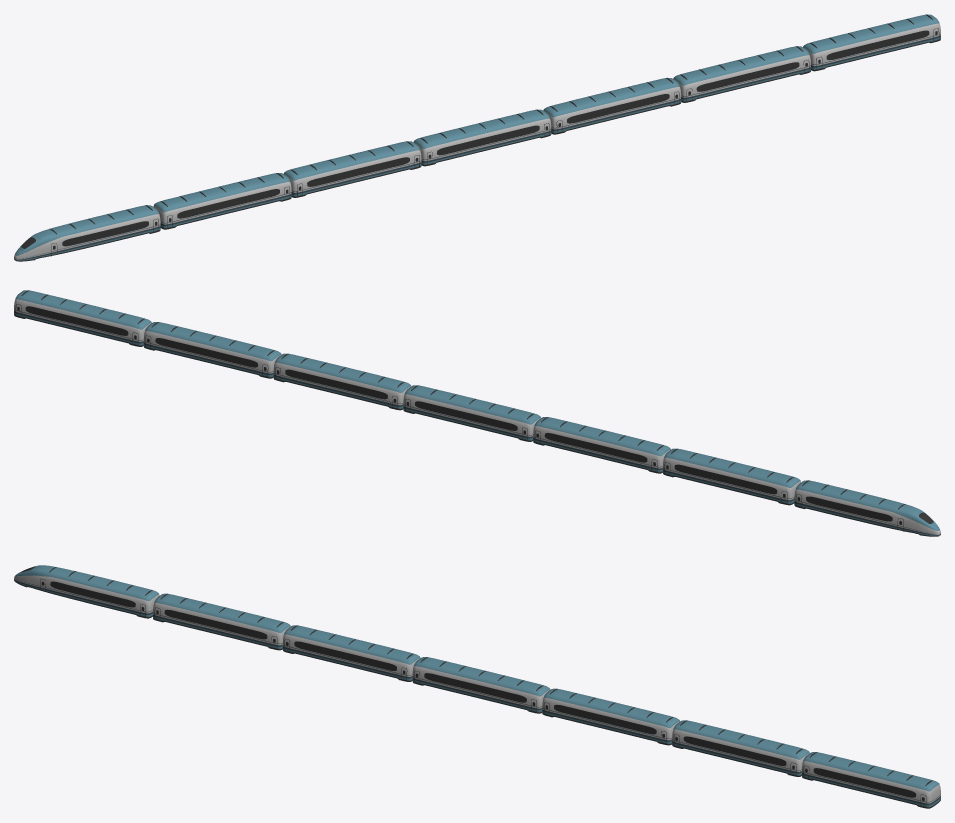
File: train.fbx
3 views of the same model, one above another, from view 1: azimuth 30°, elevation 25°; view 2: azimuth 150°, elevation 25°; view 3: azimuth 330°, elevation 25° (orthographic).
Visible parts, largest first — view 1: HighspeedTrain_Front; view 2: HighspeedTrain_Front; view 3: HighspeedTrain_Front.
Part boxes in pixels (x1,y1,x2,y2): HighspeedTrain_Front: (14, 14, 940, 261); HighspeedTrain_Front: (14, 290, 940, 536); HighspeedTrain_Front: (14, 565, 940, 808).
Size of the model in its own units: 3968 by 95.22 by 103.
